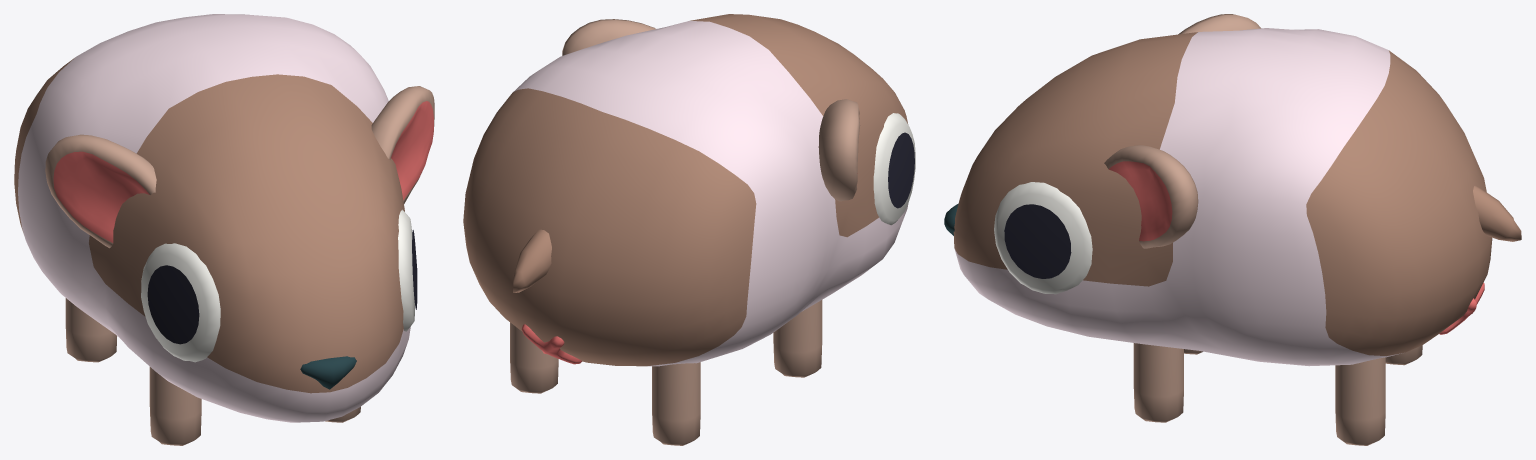
The model's file is Hamster.glb.
3 renders of one model, left to right at view 1: azimuth 30°, elevation 25°; view 2: azimuth 150°, elevation 25°; view 3: azimuth 270°, elevation 25°, orthographic. The views are drawn at different scales.
Parts seen in each view (by area): view 1: Hamster; view 2: Hamster; view 3: Hamster.
Boxes of the visible parts, <box> form: Hamster: <box>14,14,434,445</box>; Hamster: <box>463,14,915,445</box>; Hamster: <box>944,14,1521,445</box>.
Size of the model in its own units: 0.9481 by 0.8873 by 1.37.
1 material, 1 textured.
